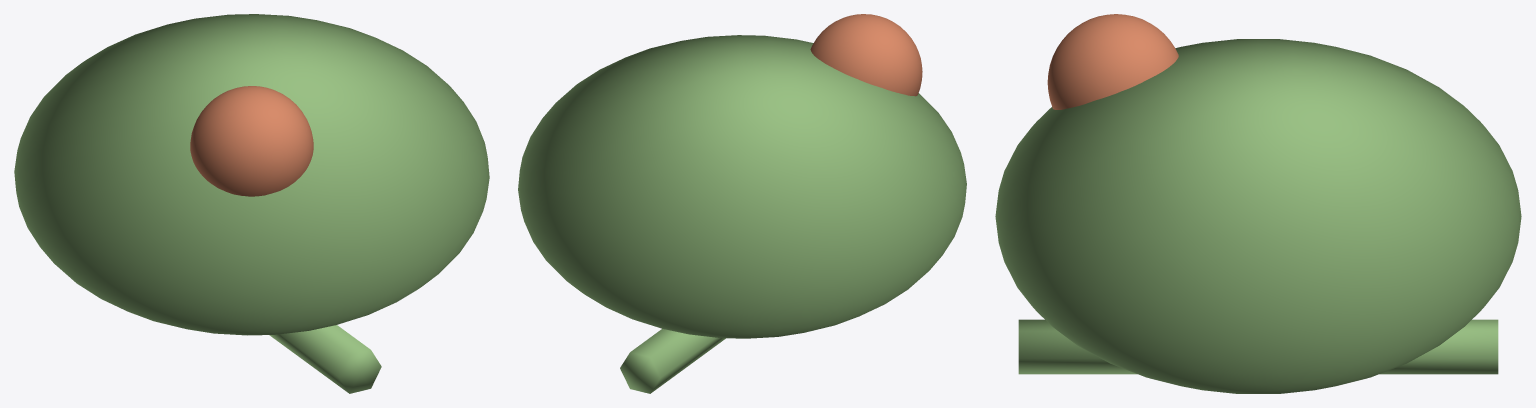
File: plant_tomato.glb
The picture shows the model from 3 angles, left to right: view 1: azimuth 30°, elevation 25°; view 2: azimuth 150°, elevation 25°; view 3: azimuth 270°, elevation 25°; orthographic projection. The views are drawn at different scales.
Visible parts, largest first — view 1: bush, fruit1, stem; view 2: bush, fruit1, stem; view 3: bush, fruit1, stem.
Part boxes in pixels (x1,y1,x2,y2): bush: (14,14,489,335); fruit1: (190,86,313,196); stem: (269,325,381,393); bush: (518,35,966,338); fruit1: (810,14,922,96); stem: (620,328,725,393); bush: (995,39,1521,393); fruit1: (1047,14,1178,109); stem: (1018,319,1498,374).
Bounding box in the file's own units: 0.384 × 0.2523 × 0.384.
